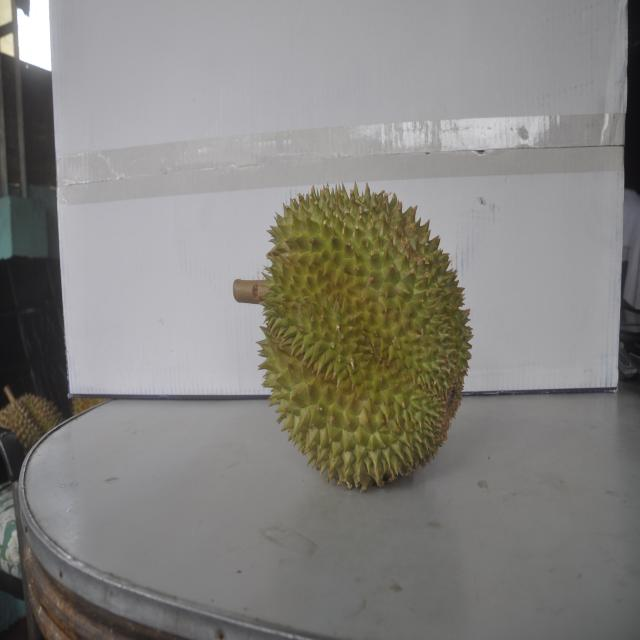mature: (250, 179, 458, 491), (0, 390, 61, 454)
